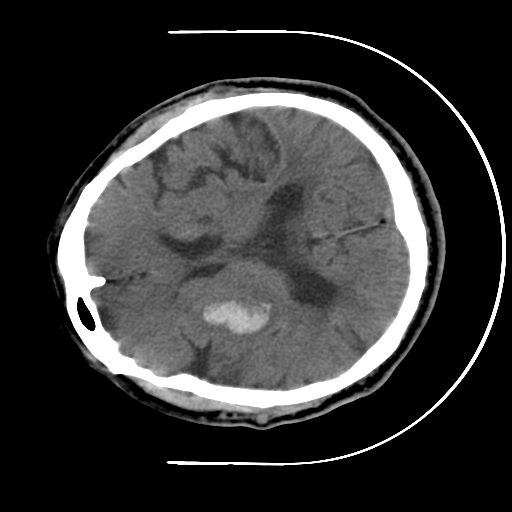a: (178, 283, 295, 354)
